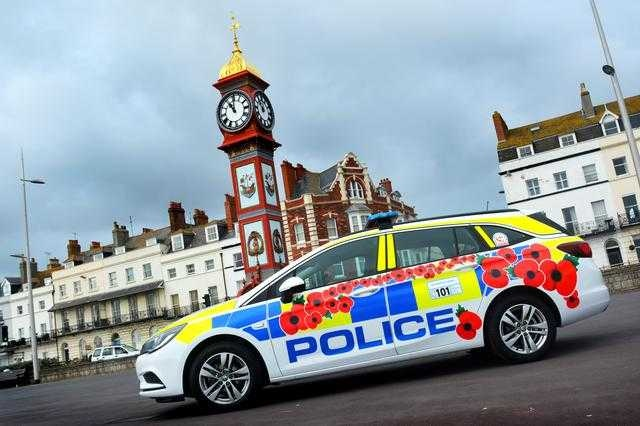Police Car: (117, 200, 617, 419)
